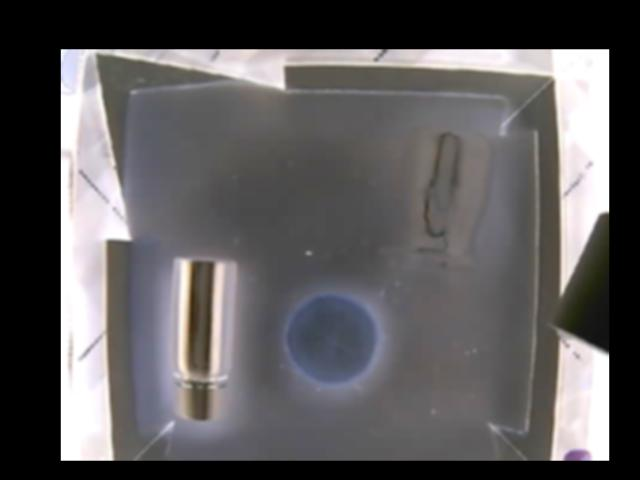Bottle: (407, 130, 496, 266), (170, 257, 235, 420)
Mooli: (281, 297, 380, 386)
